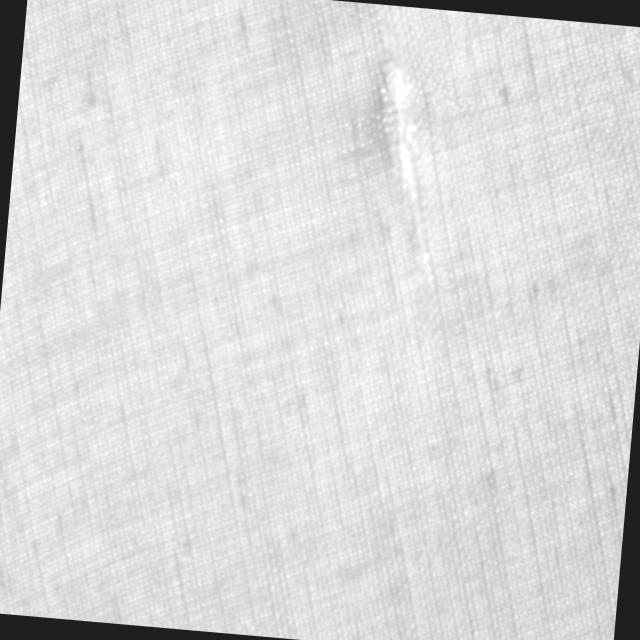thread error: (352, 44, 452, 270)
